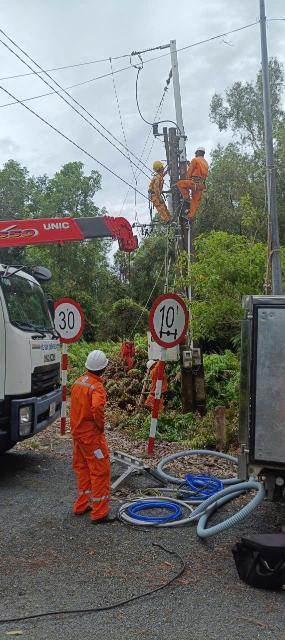gloves: (158, 198, 166, 205), (186, 160, 191, 165)
harness: (145, 186, 164, 197), (187, 176, 209, 185)
helmet: (81, 347, 109, 373), (145, 356, 160, 374), (150, 159, 171, 168), (193, 145, 207, 154)
shoes: (88, 512, 123, 526), (181, 196, 191, 203), (164, 218, 175, 224), (182, 214, 191, 221)
